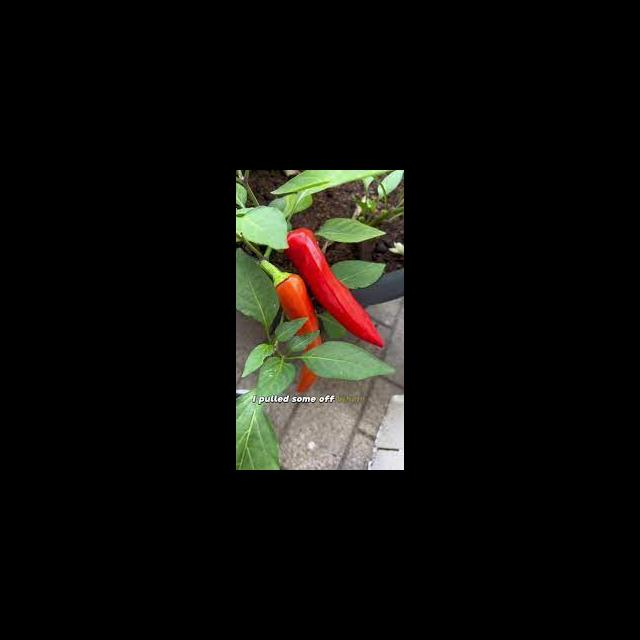chili_pepper: (284, 228, 385, 350), (267, 264, 318, 396)
